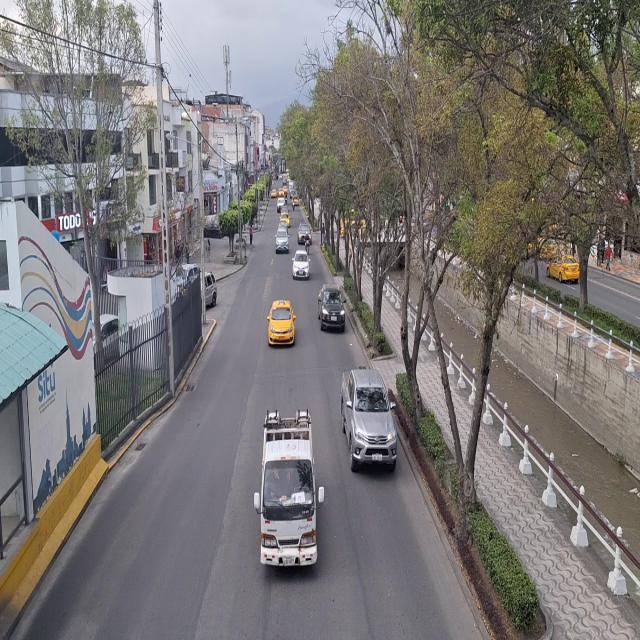CMT: (342, 367, 397, 468)
MOTORCYCLE: (304, 239, 310, 251)
SED: (269, 302, 295, 345), (547, 255, 579, 281)
SUV: (320, 286, 345, 330)
TRUCK: (262, 411, 316, 575)
